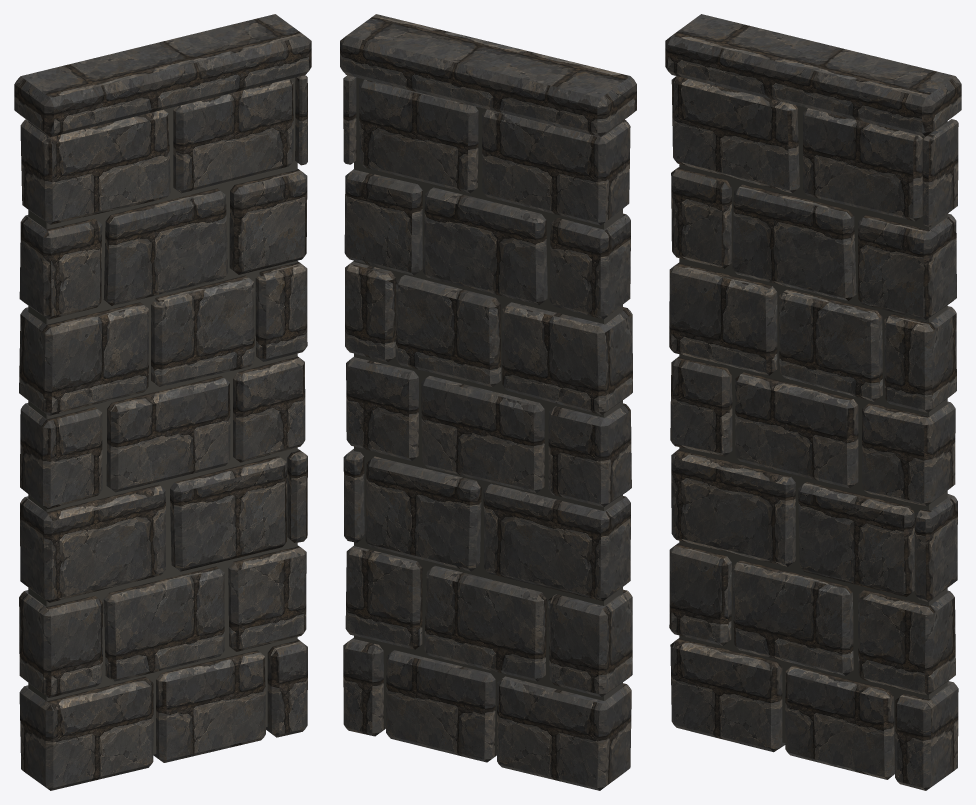
File: wall_stone_a.glb
3 renders of one model, left to right at view 1: azimuth 30°, elevation 25°; view 2: azimuth 150°, elevation 25°; view 3: azimuth 330°, elevation 25°, orthographic.
Parts seen in each view (by area): view 1: wall_stone_a; view 2: wall_stone_a; view 3: wall_stone_a.
Boxes of the visible parts, x1=… form: wall_stone_a: x1=14, y1=14, x2=311, y2=790; wall_stone_a: x1=340, y1=14, x2=636, y2=790; wall_stone_a: x1=665, y1=14, x2=961, y2=790.
Size of the model in its own units: 1 by 2.49 by 0.24.
Materials: 4 (3 with a texture image).
